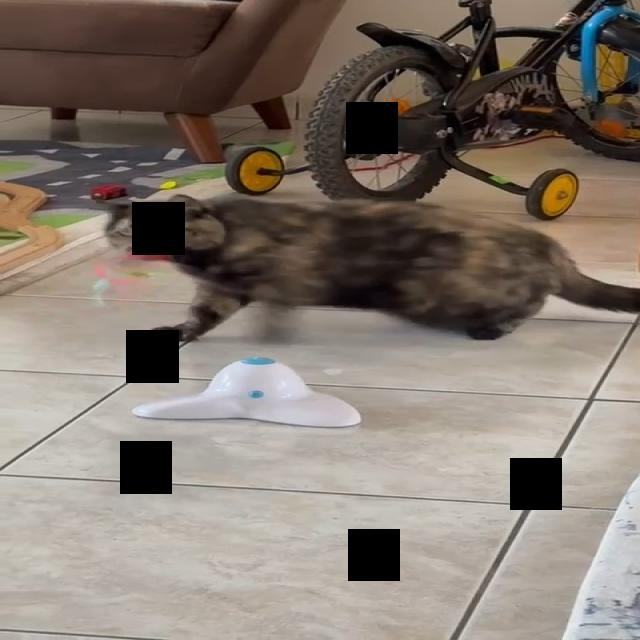authorized: (101, 193, 639, 344)
